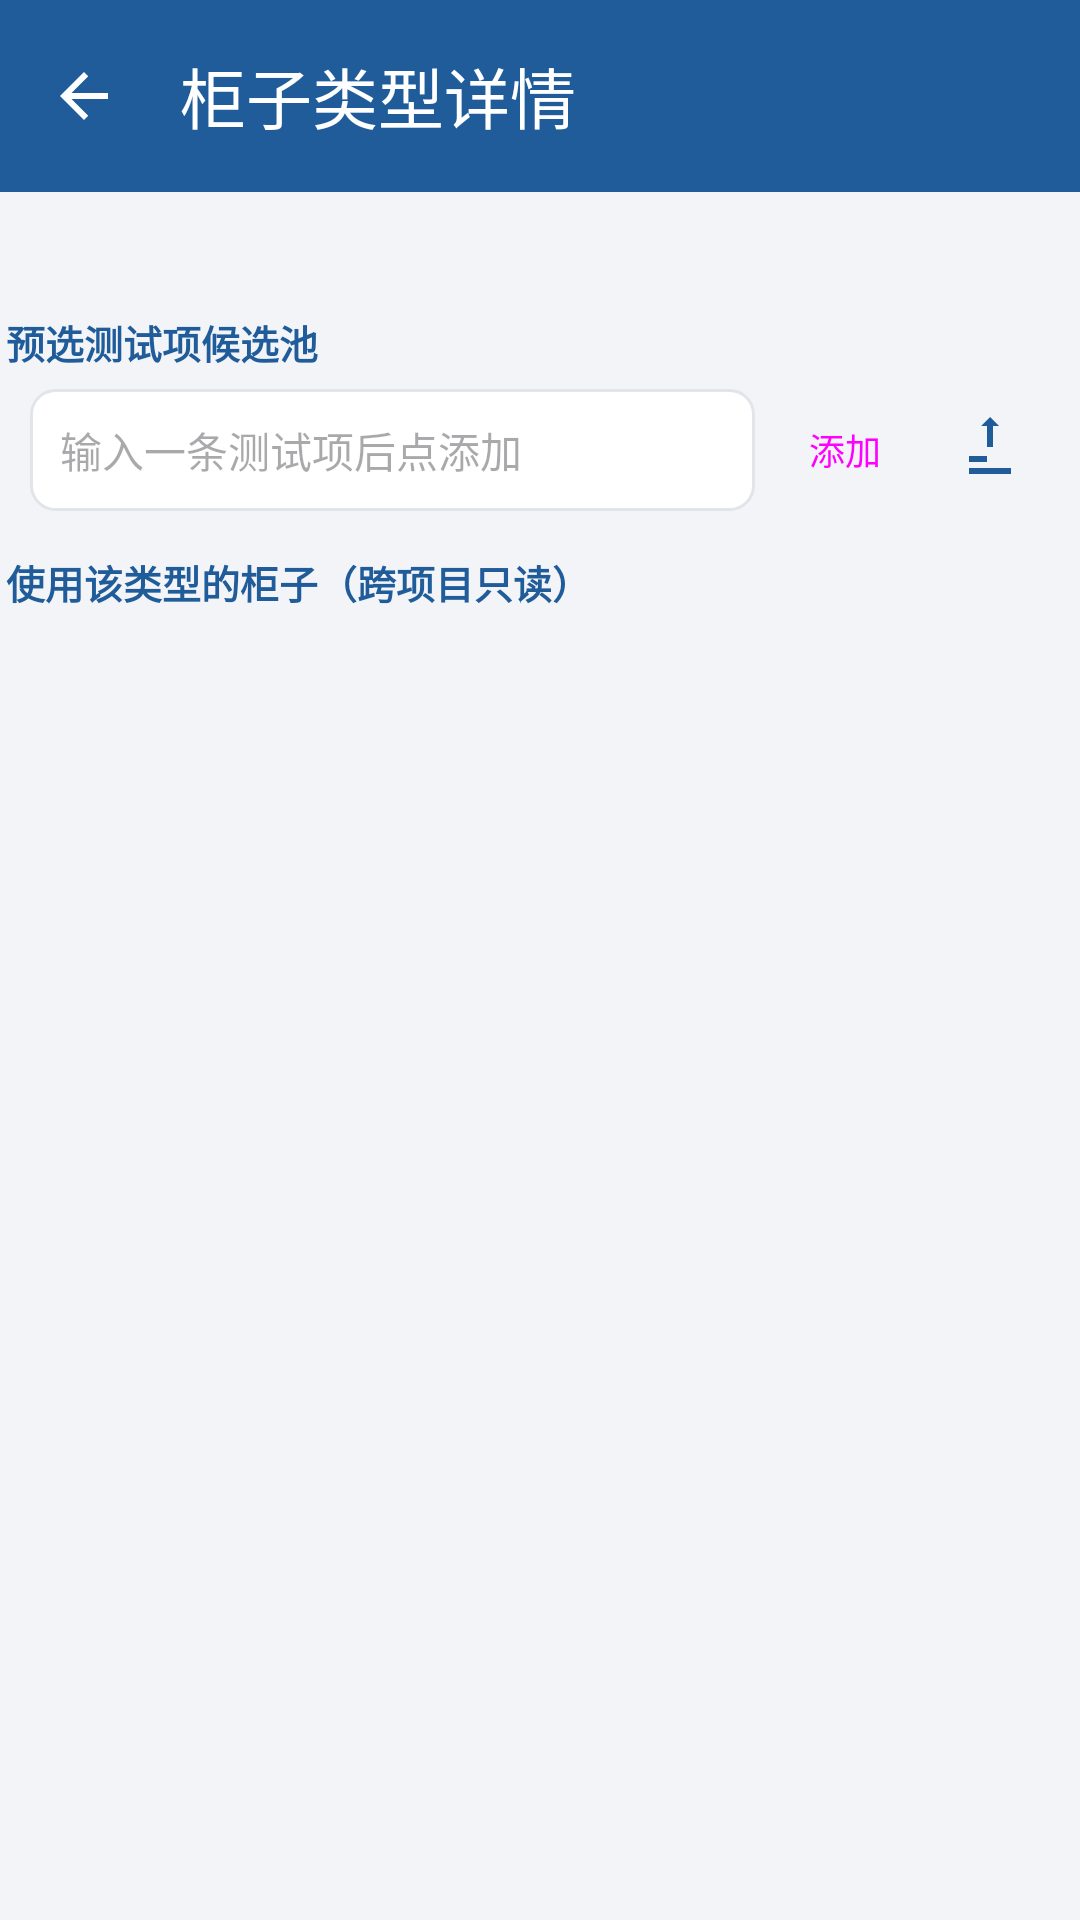

Icon click points for this 1080 × 1920 phone screenshot, format (x,y):
批量导入: (990,445)
